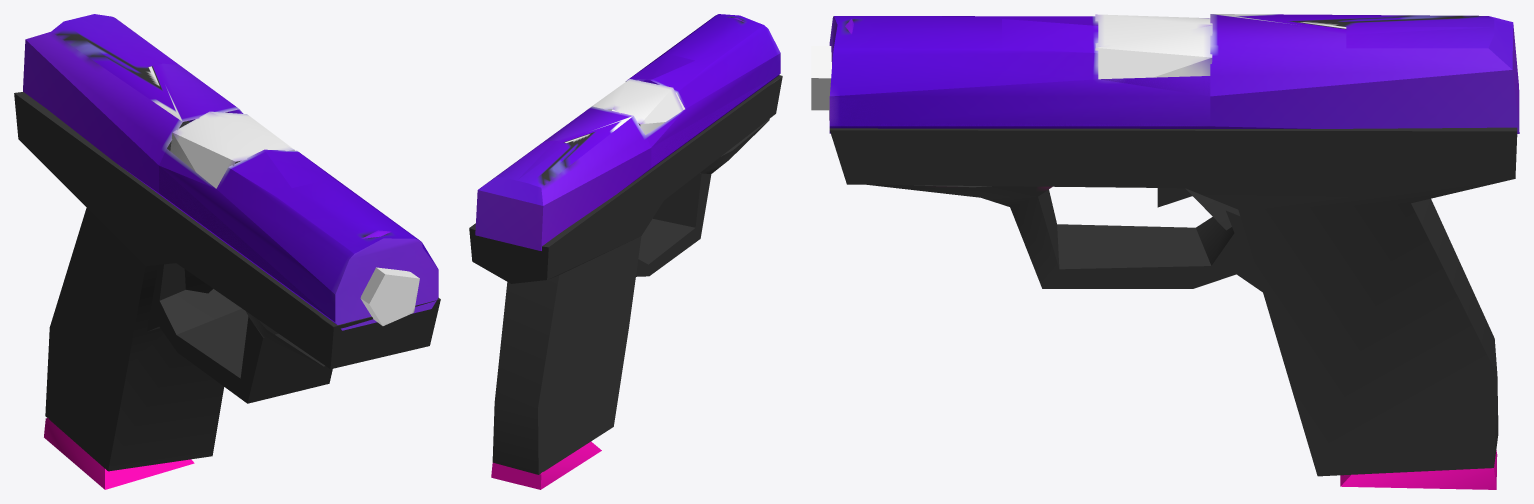
Rendered from pistol_world.glb.
3 renders of one model, left to right at view 1: azimuth 30°, elevation 25°; view 2: azimuth 150°, elevation 25°; view 3: azimuth 270°, elevation 25°, orthographic. The views are drawn at different scales.
Parts seen in each view (by area): view 1: pistol_world; view 2: pistol_world; view 3: pistol_world.
Boxes of the visible parts, <box> form: pistol_world: <box>14,14,440,489</box>; pistol_world: <box>469,14,782,489</box>; pistol_world: <box>811,14,1519,489</box>.
Bounding box in the file's own units: 0.0465 × 0.1708 × 0.244.
1 material, 1 textured.
